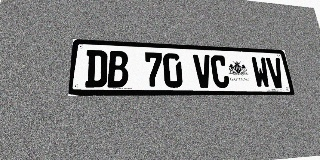0: (163, 53, 183, 88)
7: (144, 52, 164, 88)
B: (107, 51, 128, 88)
C: (210, 55, 230, 88)
D: (85, 50, 108, 87)
V: (193, 54, 213, 88), (266, 57, 286, 88)
W: (251, 57, 271, 88)
